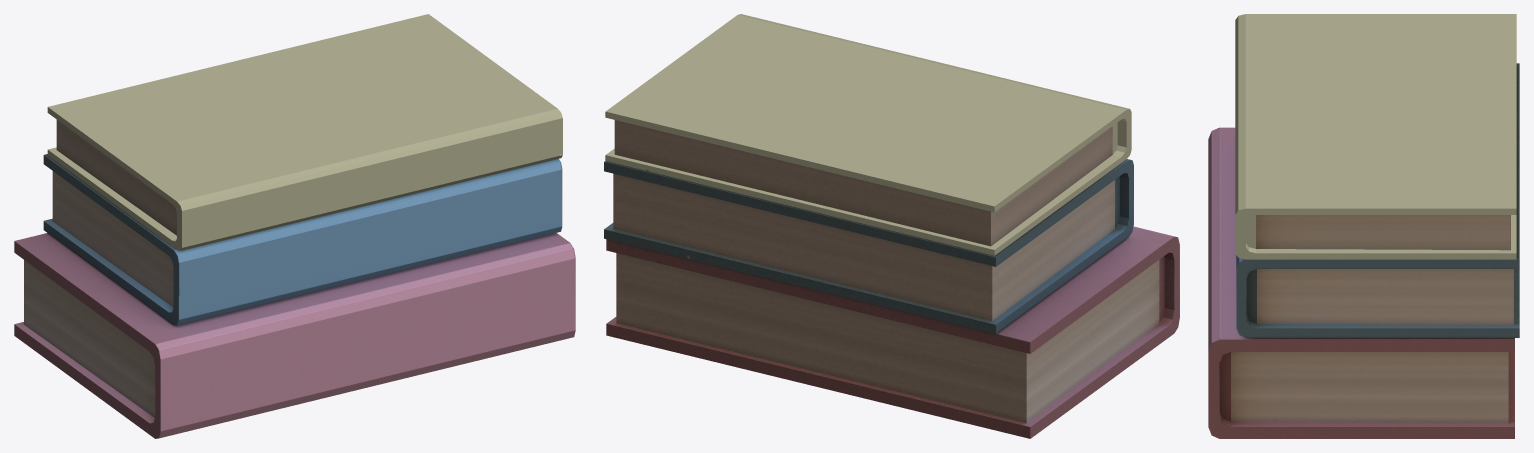
File: SetOfBooks2.glb
The picture shows the model from 3 angles, left to right: view 1: azimuth 30°, elevation 25°; view 2: azimuth 150°, elevation 25°; view 3: azimuth 270°, elevation 25°; orthographic projection. The views are drawn at different scales.
Parts seen in each view (by area): view 1: Set of Books 2; view 2: Set of Books 2; view 3: Set of Books 2.
Part boxes in pixels (<box>): Set of Books 2: <box>14,14,575,438</box>; Set of Books 2: <box>604,14,1179,438</box>; Set of Books 2: <box>1208,14,1519,438</box>.
Size of the model in its own units: 0.2228 by 0.1127 by 0.1381.
Materials: 2 (2 with a texture image).
